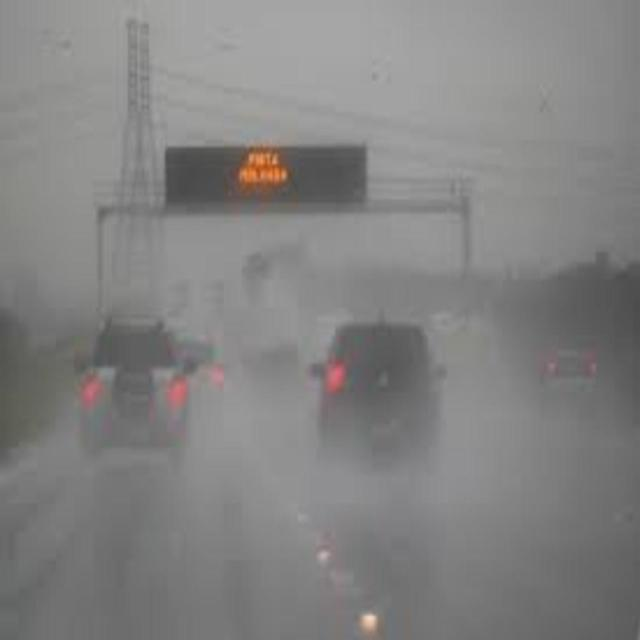car: (308, 322, 446, 458), (72, 312, 190, 460), (176, 333, 230, 419), (535, 351, 600, 414)
